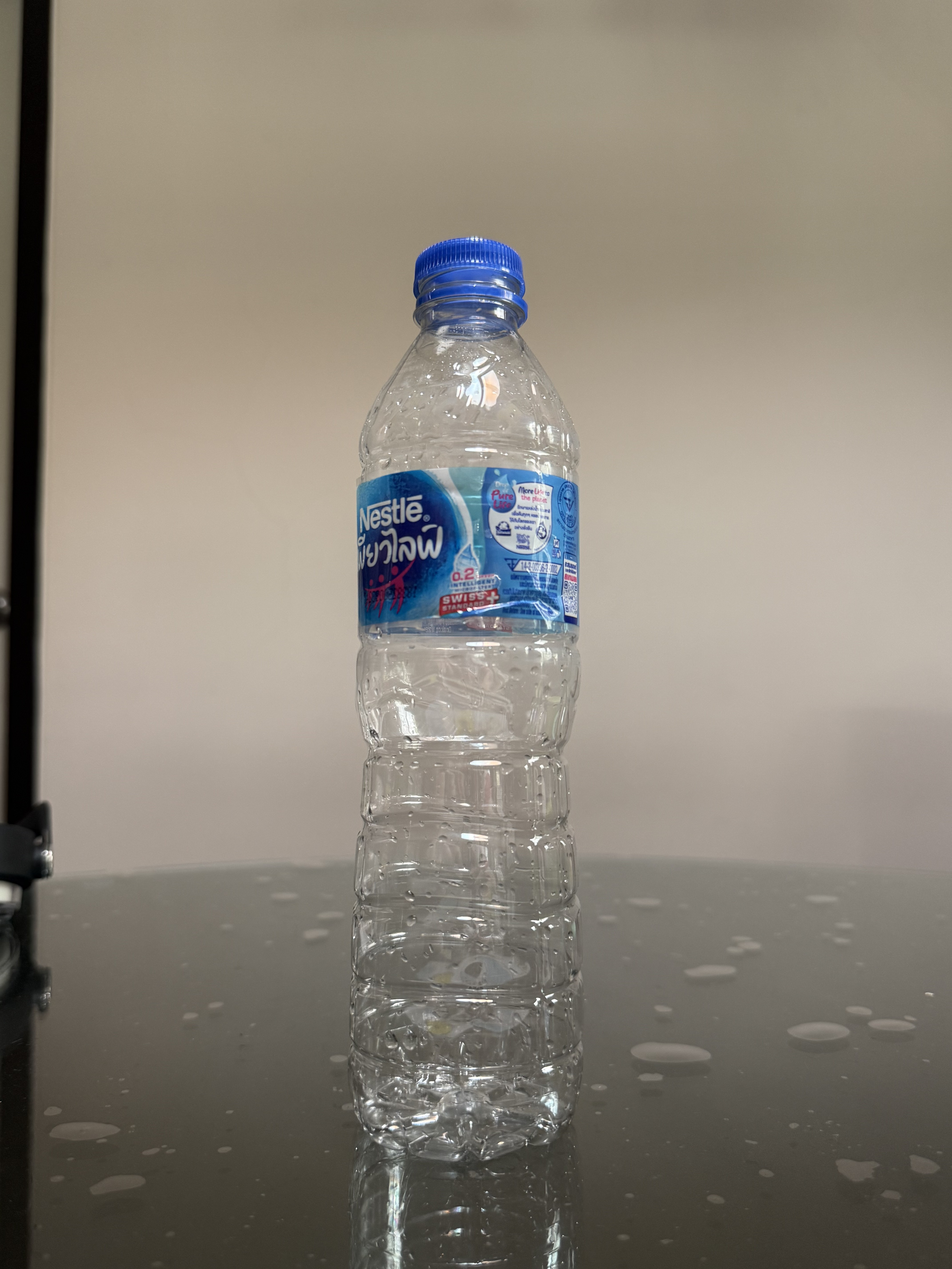half_cap: (410, 233, 529, 327)
